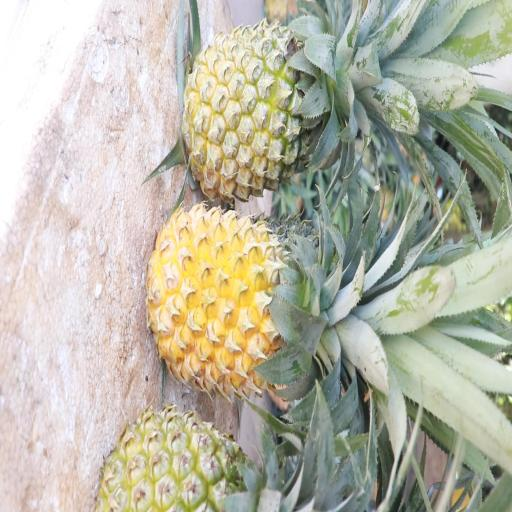------------------------------: (184, 26, 340, 194), (103, 402, 269, 512)
Pineapple - v8 v1: (149, 200, 324, 386)
